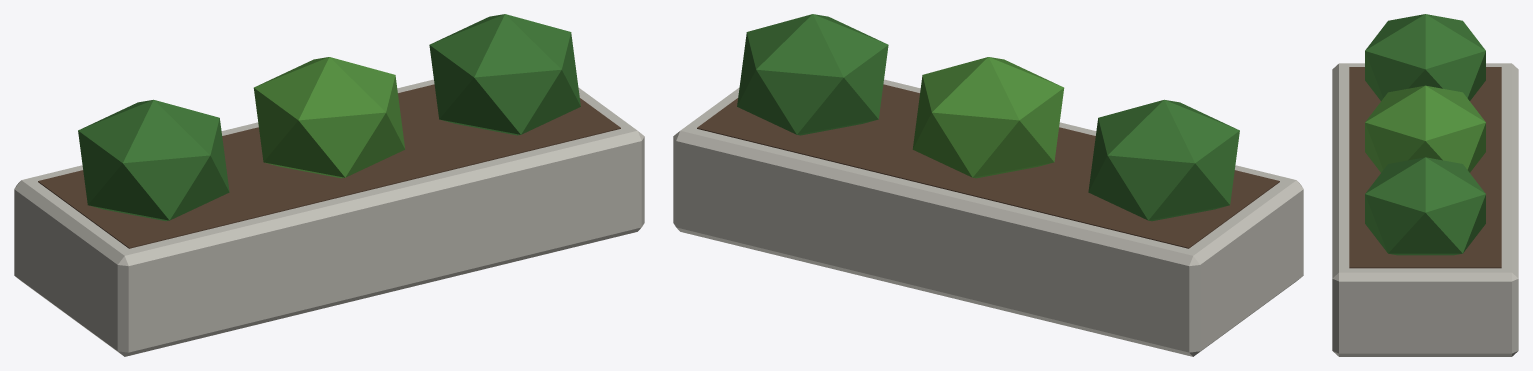
Rendered from PD_Planter.fbx.
3 renders of one model, left to right at view 1: azimuth 30°, elevation 25°; view 2: azimuth 150°, elevation 25°; view 3: azimuth 270°, elevation 25°, orthographic. The views are drawn at different scales.
Parts seen in each view (by area): view 1: PD_Planter_Mesh; view 2: PD_Planter_Mesh; view 3: PD_Planter_Mesh.
Part boxes in pixels (x1,y1,x2,y2): PD_Planter_Mesh: [14, 14, 644, 356]; PD_Planter_Mesh: [673, 14, 1303, 356]; PD_Planter_Mesh: [1332, 14, 1518, 356].
Size of the model in its own units: 3 by 1.09 by 1.1.
